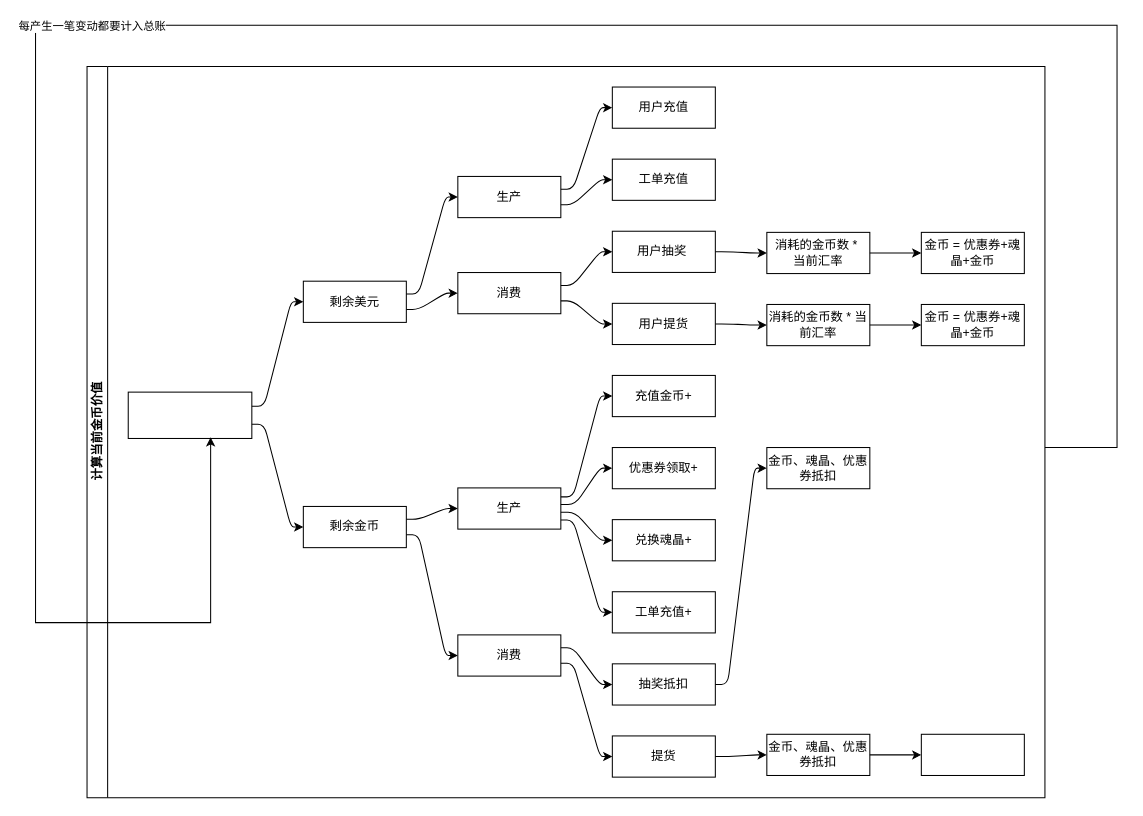
The diagram is 1143 pixels wide and 816 high, and some of its shapes have lost their labels. The shapes that lost their labels are listed below. From the top down, each one's centre as x and y in pixels, then its label:
[189,414]: 计算当前金币价值 剩余美元 / 剩余金币
[972,754]: 金币
